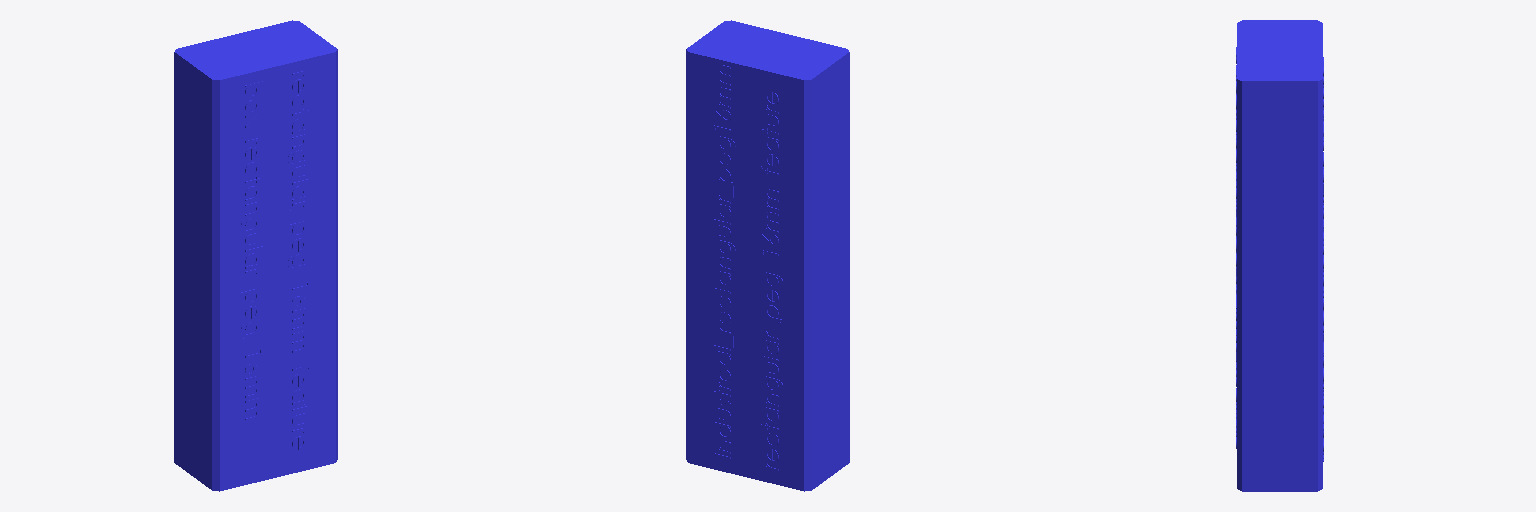
URDF robot description (box_industreal_tray_insert_round_peg_16mm):
<?xml version="1.0"?>
<robot name="box_industreal_tray_insert_round_peg_16mm">
    <link name="box_industreal_tray_insert_round_peg_16mm">
        <visual>
            <geometry>
                <mesh filename="../mesh/TVB_mesh/box_rectangular_peg_16mm_feature_text.obj" scale="2 2 2"/>
            </geometry>
            <material name="Blue">
                <color rgba="0.3 0.3 1 1"/>
            </material>
        </visual>
        <collision>
            <geometry>
                <mesh filename="../mesh/TVB_mesh/box_rectangular_peg_16mm_feature_text.obj" scale="2 2 2"/>
            </geometry>
            <sdf resolution="128"/>
        </collision>
    </link>
</robot>

--- Facts derived from the render (not from the file) ---
The picture shows the robot from 3 angles, left to right: view 1: azimuth 30°, elevation 25°; view 2: azimuth 150°, elevation 25°; view 3: azimuth 270°, elevation 25°; orthographic projection.
Robot: box_industreal_tray_insert_round_peg_16mm — 1 links, 0 joints (none); root link box_industreal_tray_insert_round_peg_16mm; default pose: every joint at zero.
Links seen in each view (by area): view 1: box_industreal_tray_insert_round_peg_16mm; view 2: box_industreal_tray_insert_round_peg_16mm; view 3: box_industreal_tray_insert_round_peg_16mm.
Link boxes in pixels (x1,y1,x2,y2): box_industreal_tray_insert_round_peg_16mm: (174, 20, 337, 491); box_industreal_tray_insert_round_peg_16mm: (686, 20, 849, 491); box_industreal_tray_insert_round_peg_16mm: (1236, 20, 1323, 491).
Bounding box of the posed robot: 0.0319 × 0.0194 × 0.1 m (x, y, z).
1 mesh visuals loaded from 1 distinct referenced files (1 OBJ).
